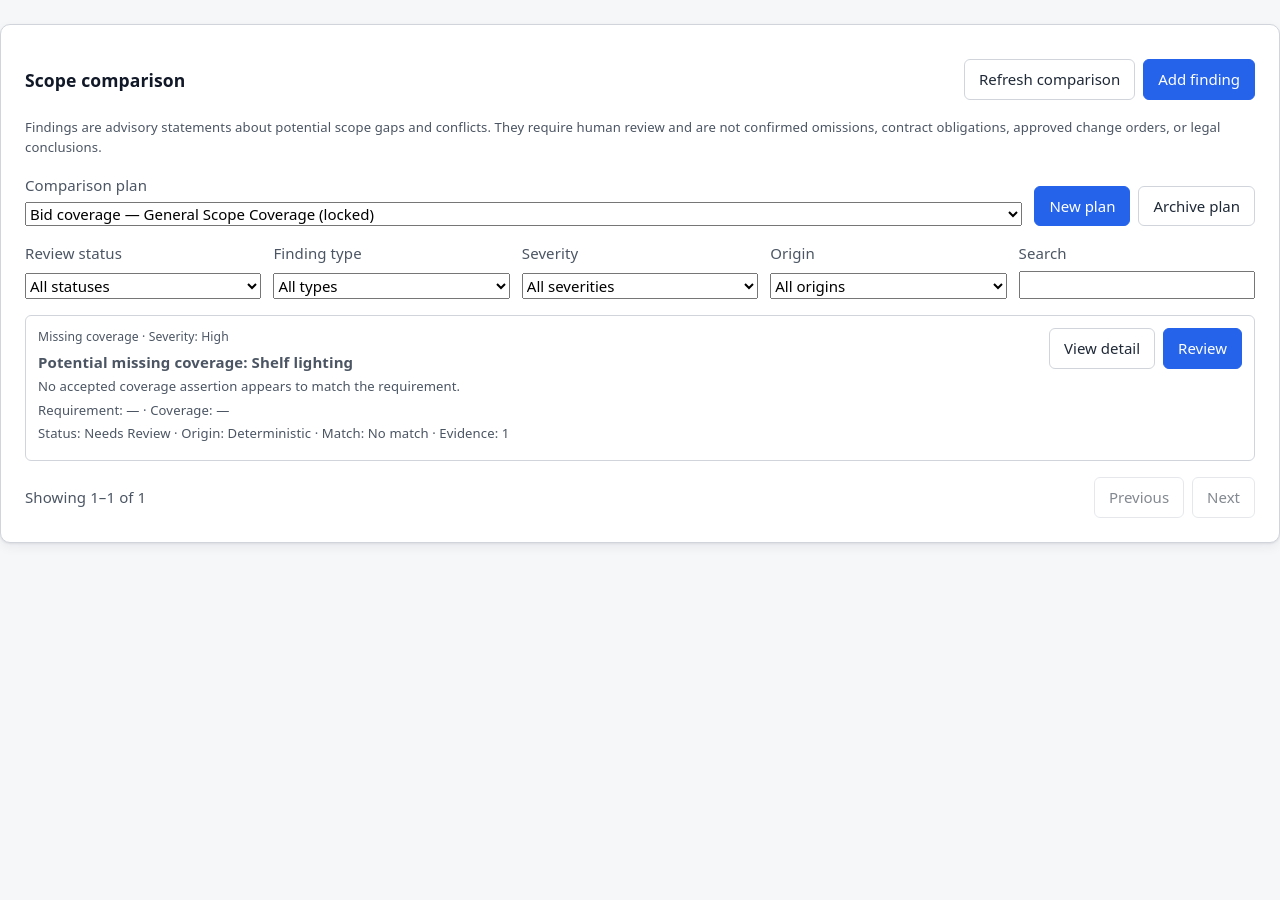
Test: Follow-up panel › refuses to offer follow-ups for a finding that is not accepted
The width and height of the screenshot is (1280, 900).
Click the button "View detail": click(1102, 349) [1049,328,1155,369]
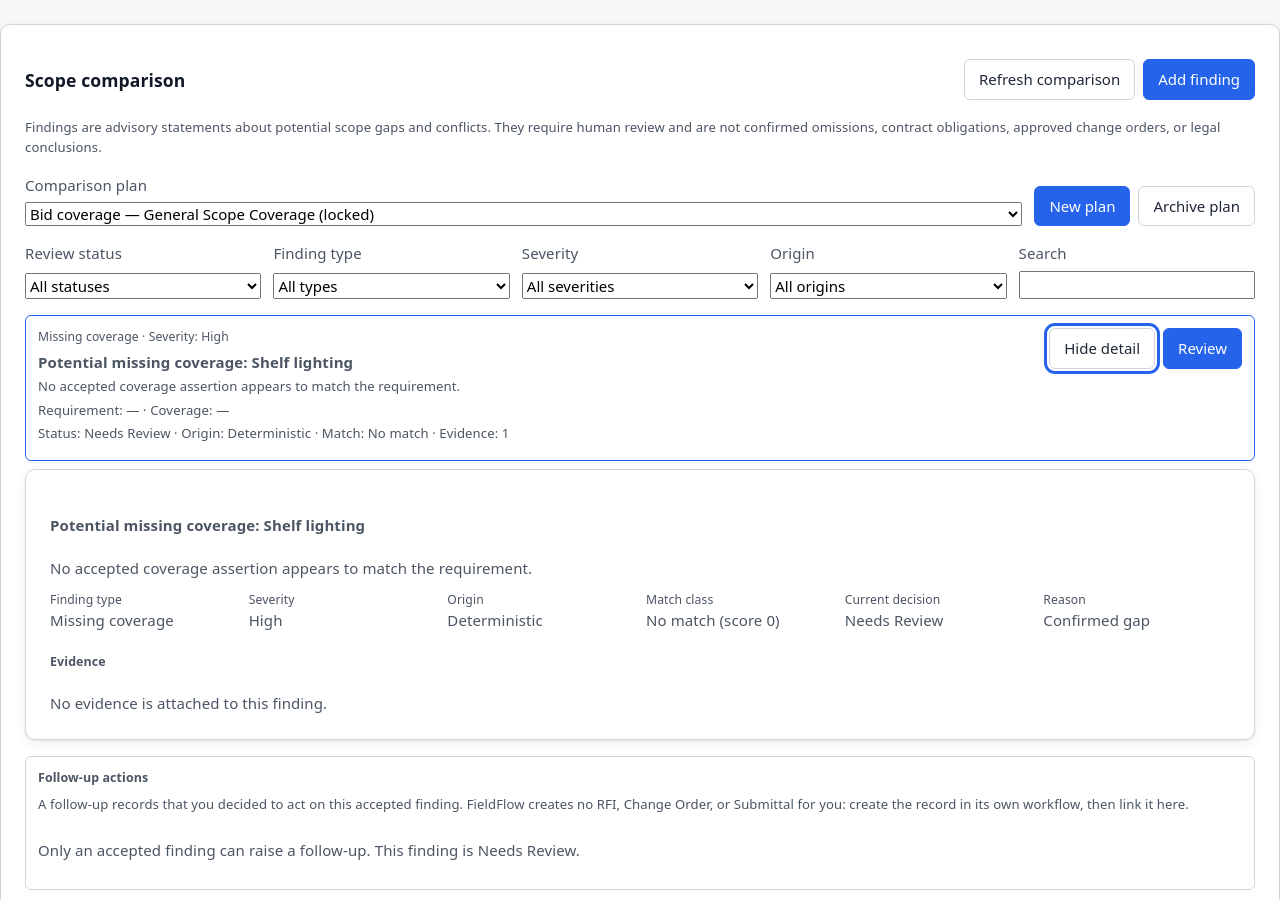
Now the text "Only an accepted finding can raise a follow-up" is shown, box [38,840,474,860]
